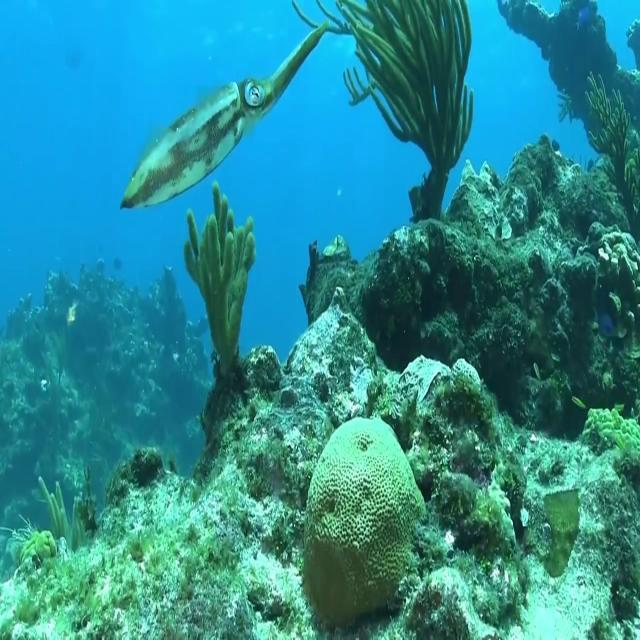squid: (118, 21, 328, 212)
